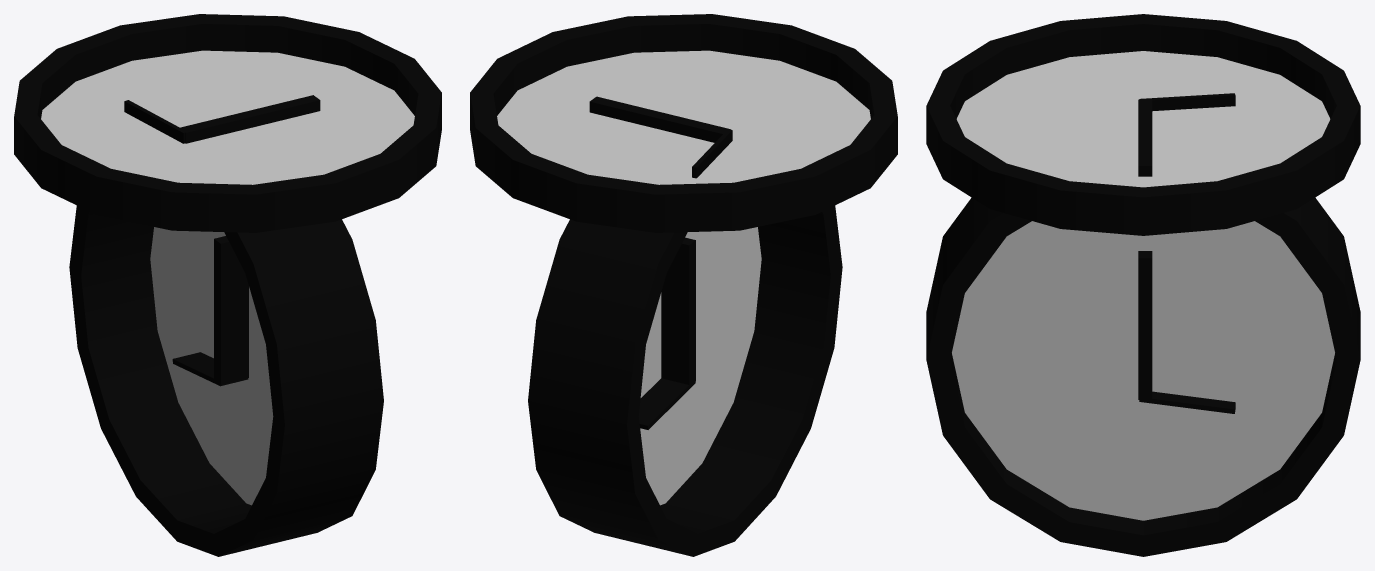
Rendered from clock.fbx.
The picture shows the model from 3 angles, left to right: view 1: azimuth 30°, elevation 25°; view 2: azimuth 150°, elevation 25°; view 3: azimuth 270°, elevation 25°; orthographic projection.
Parts seen in each view (by area): view 1: clock_1; view 2: clock_1; view 3: clock_1.
Part boxes in pixels (box(x1,y1,x2,y2)): clock_1: box(14, 14, 441, 556); clock_1: box(470, 14, 897, 556); clock_1: box(926, 14, 1360, 556).
Bounding box in the file's own units: 91.04 × 98.95 × 91.04.
1 material, 1 textured.
